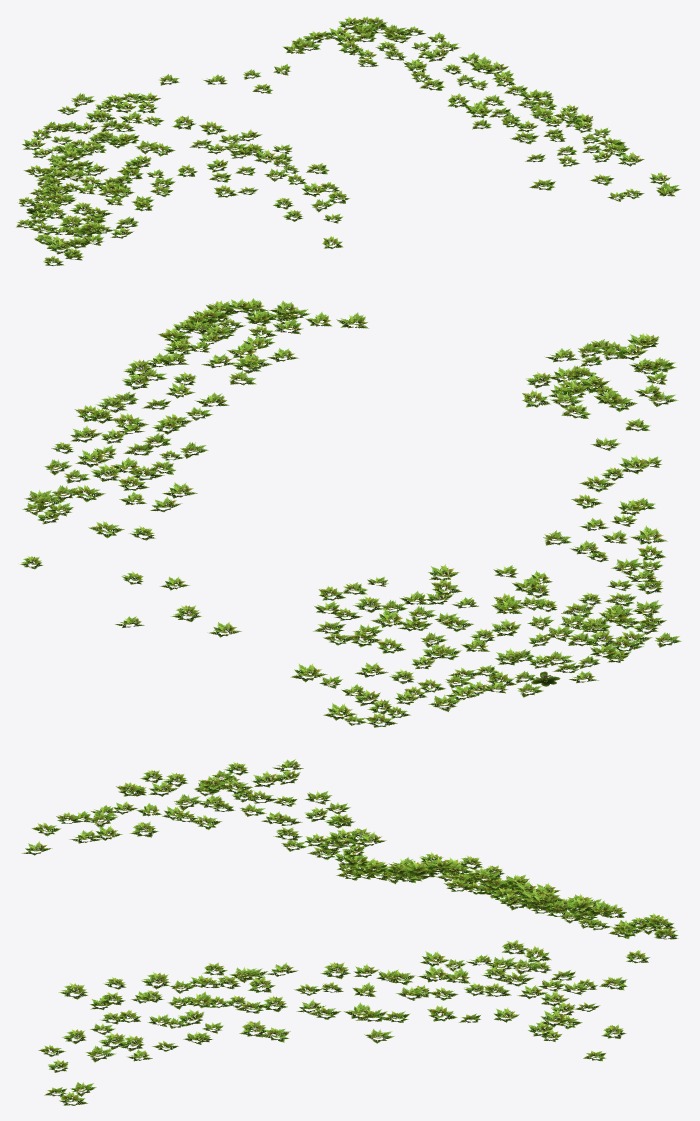
Rendered from Ferns_05.fbx.
3 renders of one model, top to bottom at view 1: azimuth 30°, elevation 25°; view 2: azimuth 150°, elevation 25°; view 3: azimuth 270°, elevation 25°, orthographic. The views are drawn at different scales.
Parts seen in each view (by area): view 1: Ferns_05; view 2: Ferns_05; view 3: Ferns_05.
Part boxes in pixels (x1=…): Ferns_05: x1=16, y1=16, x2=681, y2=266; Ferns_05: x1=18, y1=298, x2=681, y2=727; Ferns_05: x1=21, y1=759, x2=678, y2=1105.
Size of the model in its own units: 9819 by 2610 by 9370.
